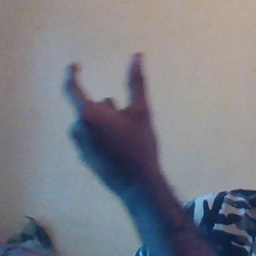U: (57, 42, 163, 173)
